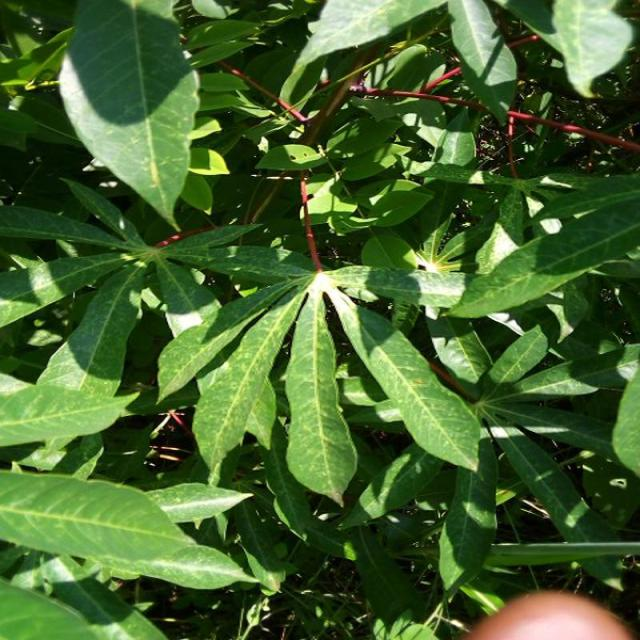cassava leaf: (57, 0, 200, 231), (0, 468, 262, 593), (284, 286, 358, 507)
